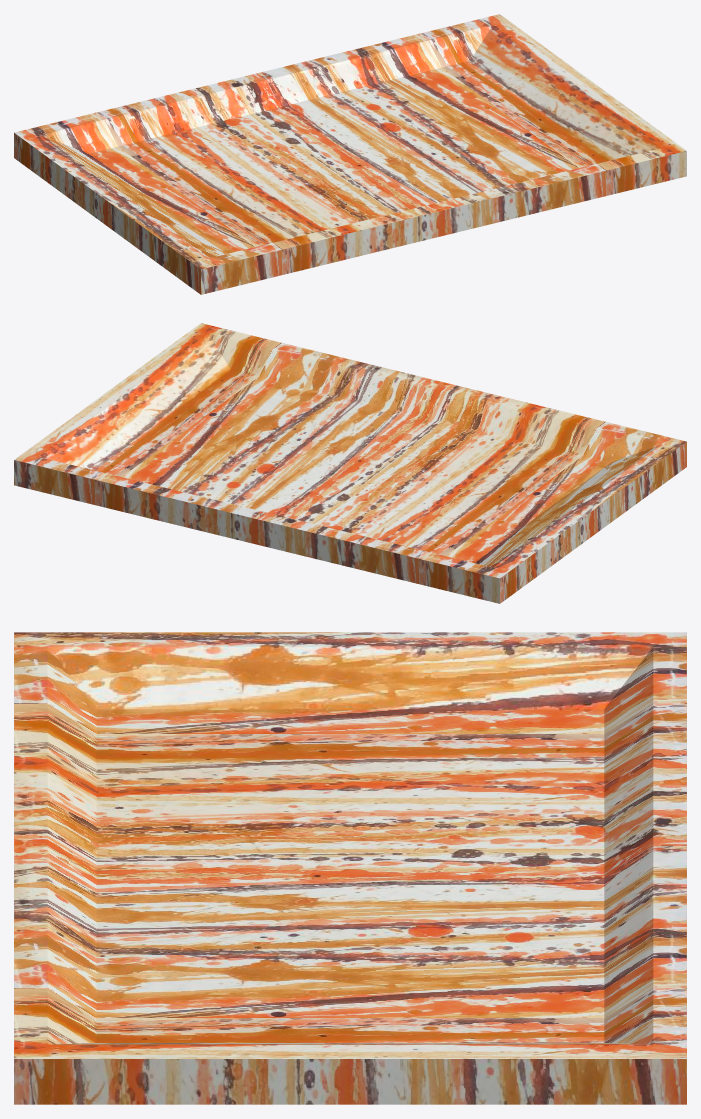
The model's file is Modelo3DPlato2.FBX.
The picture shows the model from 3 angles, top to bottom: view 1: azimuth 30°, elevation 25°; view 2: azimuth 150°, elevation 25°; view 3: azimuth 270°, elevation 25°; orthographic projection. The views are drawn at different scales.
Visible parts, largest first — view 1: Box001; view 2: Box001; view 3: Box001.
Boxes of the visible parts, box(x1,y1,x2,y2) form: Box001: box(14, 14, 686, 294); Box001: box(14, 323, 686, 603); Box001: box(14, 632, 686, 1104).
Bounding box in the file's own units: 59.06 × 2.95 × 39.37.
1 material, 1 textured.
